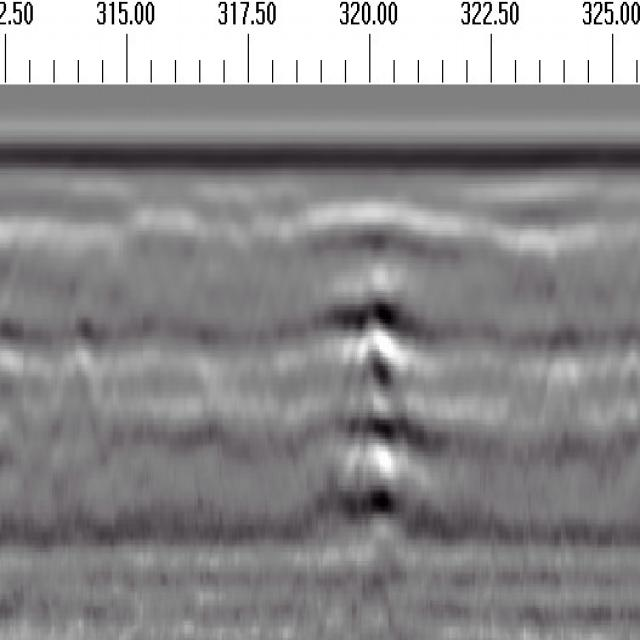loose: (322, 208, 436, 572)
